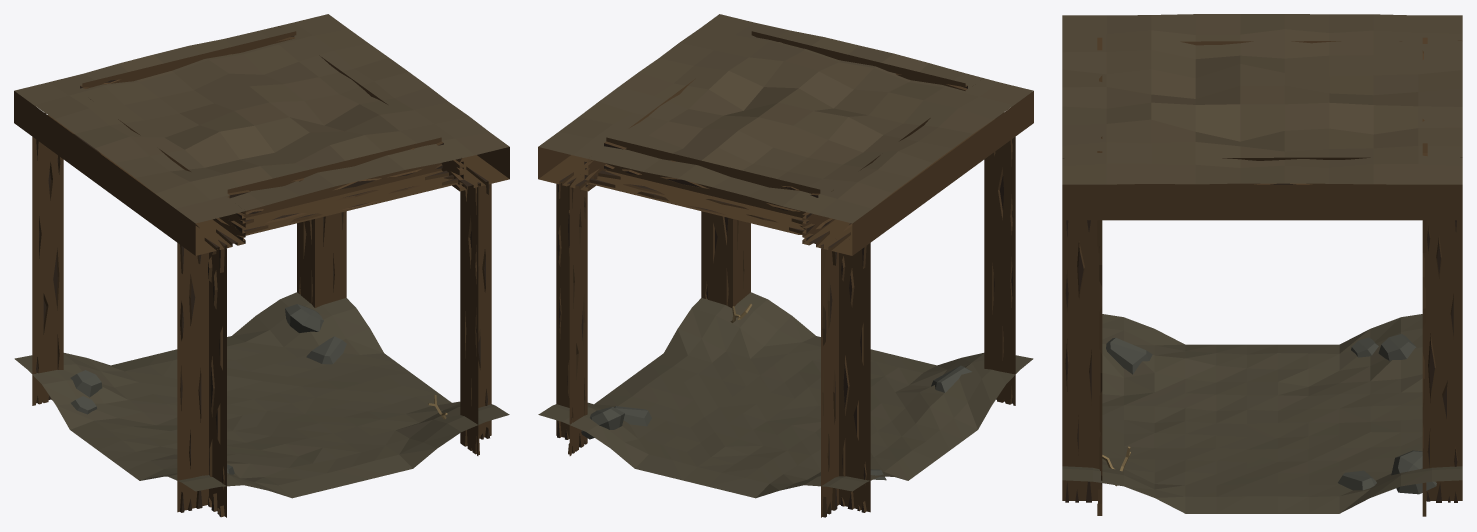
The model's file is Basement_Var2.glb.
3 views of the same model, side by side, from view 1: azimuth 30°, elevation 25°; view 2: azimuth 150°, elevation 25°; view 3: azimuth 270°, elevation 25° (orthographic). The views are drawn at different scales.
Parts seen in each view (by area): view 1: Basement_Var2; view 2: Basement_Var2; view 3: Basement_Var2.
Boxes of the visible parts, x1=… form: Basement_Var2: x1=14, y1=14, x2=509, y2=517; Basement_Var2: x1=538, y1=14, x2=1033, y2=517; Basement_Var2: x1=1062, y1=14, x2=1462, y2=516.
Size of the model in its own units: 4 by 3.78 by 4.
5 materials, 5 textured.
